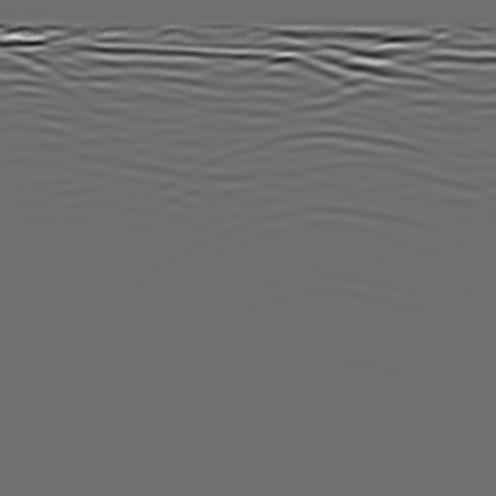hyperbola: (185, 117, 461, 246)
